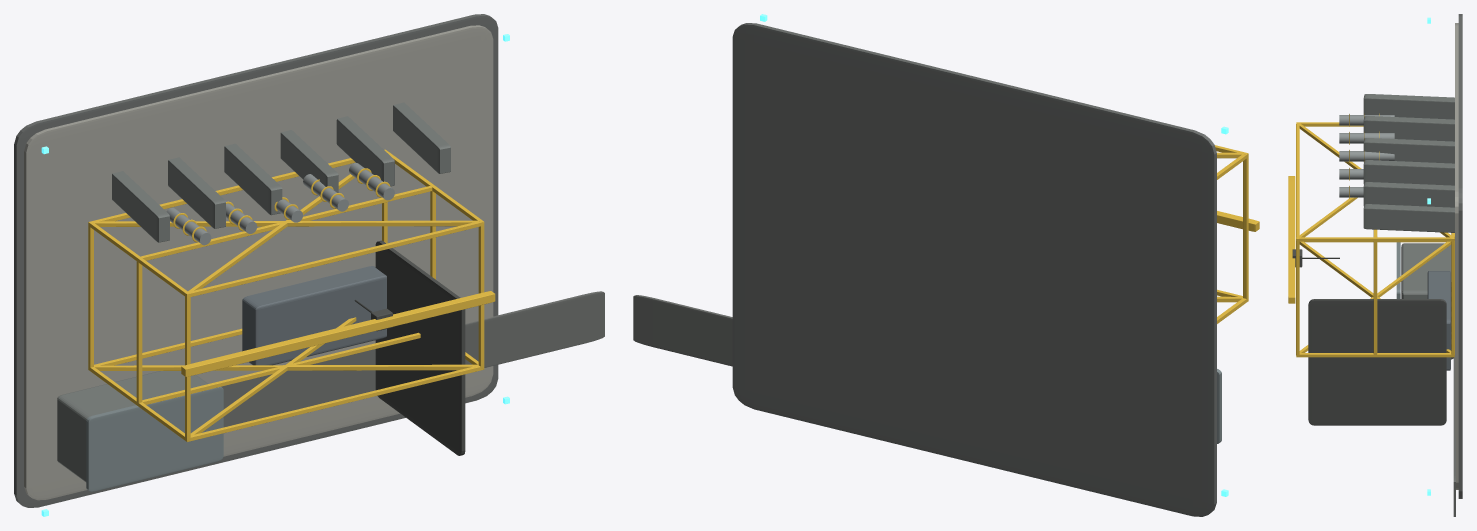
File: b-17-heavy-factory-lod1.glb
3 renders of one model, left to right at view 1: azimuth 30°, elevation 25°; view 2: azimuth 150°, elevation 25°; view 3: azimuth 270°, elevation 25°, orthographic. The views are drawn at different scales.
Visible parts, largest first — view 1: foundation_inner_pad, foundation, factory_exit_road, factory_door, parts_store_roof, visible_vehicle_chassis, parts_store_main_hall, heavy_crane_bridge, factory_buttress_0, factory_buttress_1, factory_buttress_5, factory_buttress_2 (+19 smaller); view 2: foundation, factory_exit_road, heavy_crane_beam_y_2_w; view 3: factory_door, foundation, factory_buttress_5, factory_buttress_3, factory_buttress_4, factory_buttress_0, parts_store_main_hall, factory_buttress_1, factory_buttress_2, foundation_inner_pad, visible_vehicle_chassis, heavy_crane_bridge (+19 smaller).
Boxes of the visible parts, box(x1,y1,x2,y2) form: foundation_inner_pad: box(24, 25, 493, 500); foundation: box(14, 14, 498, 507); factory_exit_road: box(221, 291, 604, 427); factory_door: box(375, 240, 465, 455); parts_store_roof: box(86, 387, 223, 491); visible_vehicle_chassis: box(242, 266, 386, 365); parts_store_main_hall: box(57, 371, 207, 482); heavy_crane_bridge: box(181, 291, 495, 376); factory_buttress_0: box(112, 171, 169, 242); factory_buttress_1: box(168, 157, 225, 228); factory_buttress_5: box(393, 102, 450, 173); factory_buttress_2: box(224, 143, 282, 215); foundation: box(732, 23, 1216, 516); factory_exit_road: box(633, 295, 732, 366); heavy_crane_beam_y_2_w: box(1243, 152, 1248, 298); factory_door: box(1308, 299, 1446, 425); foundation: box(1458, 14, 1462, 498); factory_buttress_5: box(1363, 204, 1454, 232); factory_buttress_3: box(1363, 160, 1454, 185); factory_buttress_4: box(1363, 182, 1454, 207); factory_buttress_0: box(1363, 94, 1454, 119); parts_store_main_hall: box(1401, 243, 1451, 298); factory_buttress_1: box(1363, 116, 1454, 141); factory_buttress_2: box(1363, 138, 1454, 163); foundation_inner_pad: box(1455, 23, 1458, 489); visible_vehicle_chassis: box(1427, 271, 1450, 370); heavy_crane_bridge: box(1288, 176, 1295, 303).
Size of what is drawn, in the model's own units: 25.5 by 16 by 8.2.
